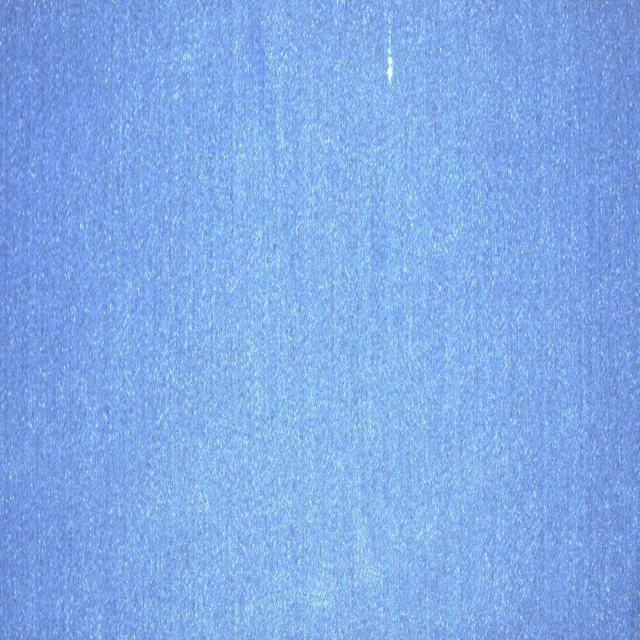Knot: (386, 10, 395, 84)
